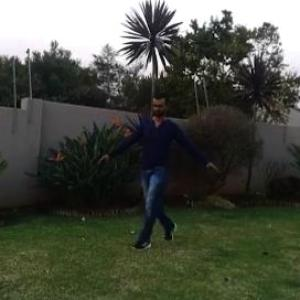land: (108, 95, 214, 229)
